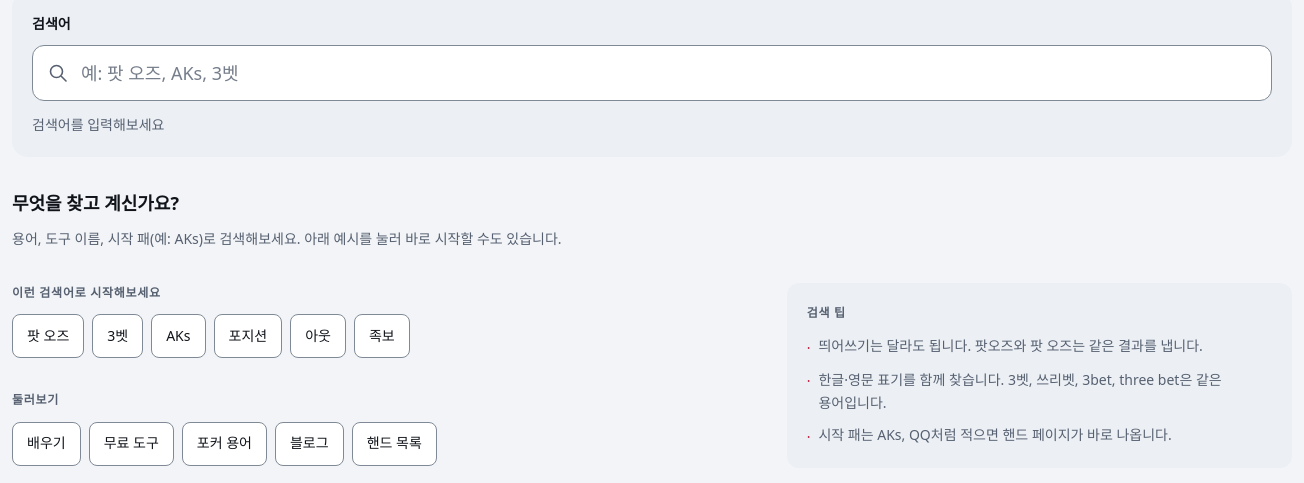
Test case: SearchClient › updates results as the user types, and announces the count
The width and height of the screenshot is (1304, 483).
In the search field labelled "검색어": coordinates (652, 72) [32,44,1272,100], type "레인지"
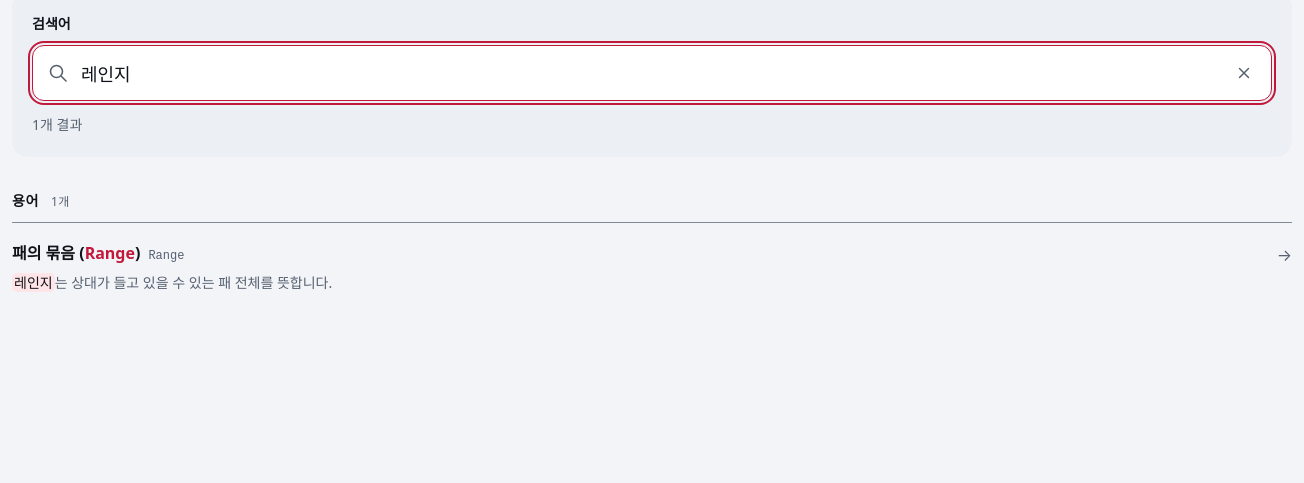
Expected: the link "패의 묶음 (Range)Range 레인지는 상대가 들고 있을 수 있는 패 전체를 뜻합니다. →" is shown, [12,242,1292,292]
Expected: the message reads "1개 결과", [32,114,82,134]
Expected: the link "팟 오즈" is gone
